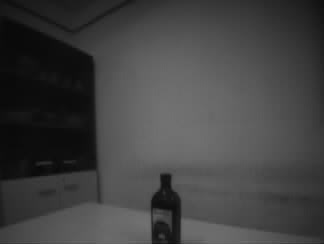Bottle: (151, 174, 181, 244)
